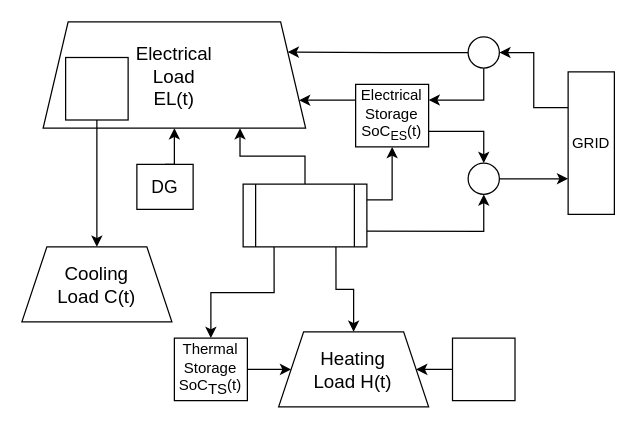
Some shapes in this 636 by 429 pixel diagram are drawn without their labels. The shapes that lost their labels are listed below. From the top down, each one's box as (x1, y1, x2, y2) in pixels, then its label:
(64, 56, 128, 120): Electric Chiller
(242, 183, 367, 247): PVT PV(t)
(451, 337, 515, 401): Electric Heater
